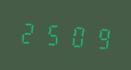five: (41, 18, 63, 49)
nine: (87, 21, 109, 53)
two: (18, 16, 40, 48)
zero: (64, 19, 86, 51)
